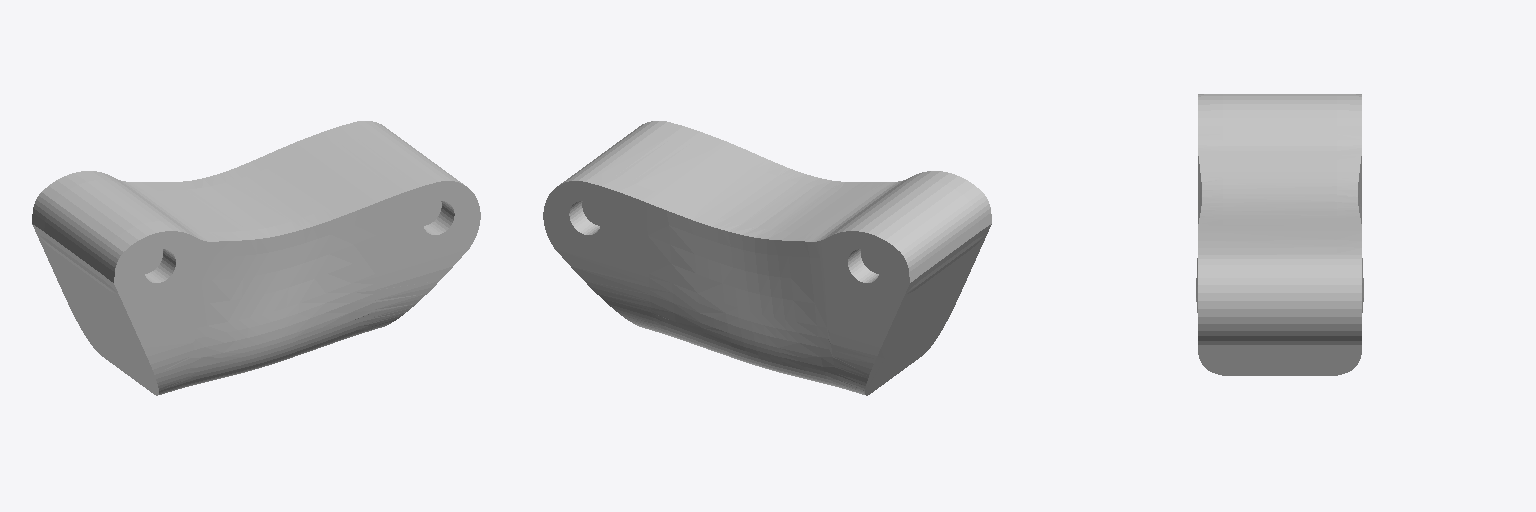
The model's file is j2n6s300_link_finger_1_visuals_mesh_0.obj.
3 renders of one model, left to right at view 1: azimuth 30°, elevation 25°; view 2: azimuth 150°, elevation 25°; view 3: azimuth 270°, elevation 25°, orthographic.
Bounding box in the file's own units: 0.0579 × 0.0265 × 0.0229.